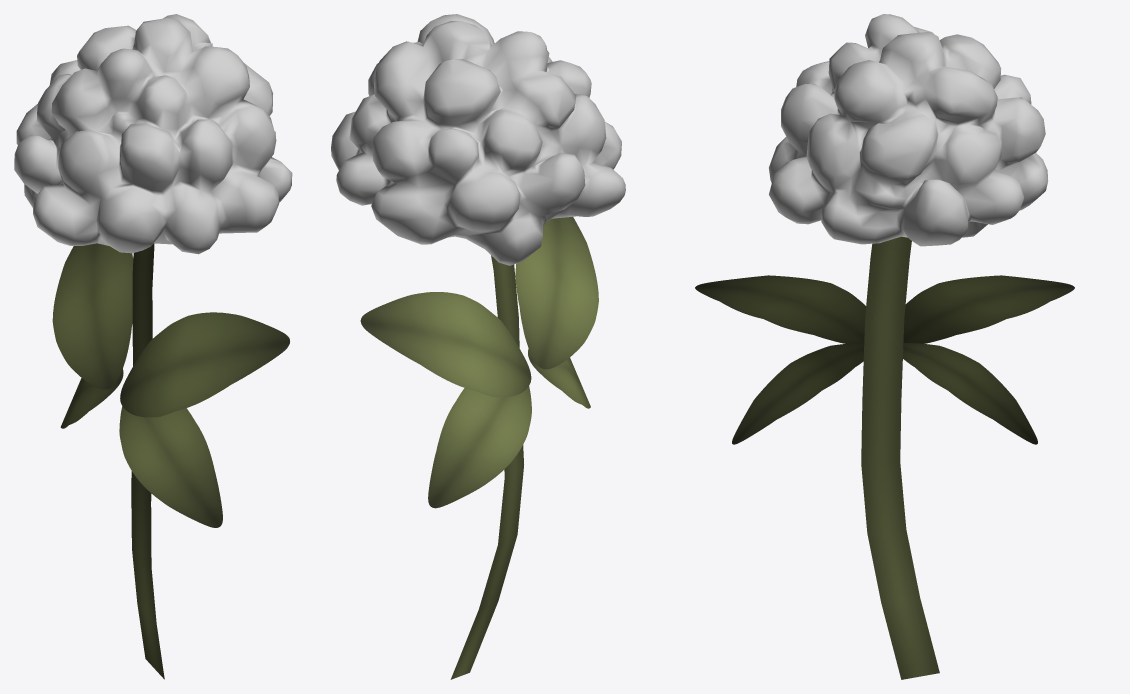
File: Mod_CraftCottonBud.fbx
The picture shows the model from 3 angles, left to right: view 1: azimuth 30°, elevation 25°; view 2: azimuth 150°, elevation 25°; view 3: azimuth 270°, elevation 25°; orthographic projection.
Visible parts, largest first — view 1: CottonBudMesh1; view 2: CottonBudMesh1; view 3: CottonBudMesh1.
Boxes of the visible parts, x1=… form: CottonBudMesh1: x1=14, y1=14, x2=292, y2=679; CottonBudMesh1: x1=331, y1=14, x2=625, y2=679; CottonBudMesh1: x1=695, y1=14, x2=1074, y2=679.
Bounding box in the file's own units: 53.56 × 130 × 83.9.
